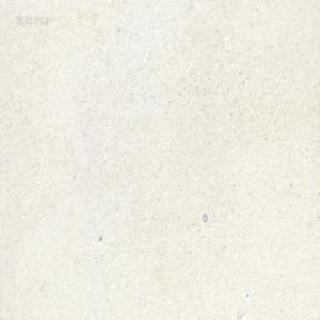Washertrack_idkeyframe: (201, 212, 207, 222)
